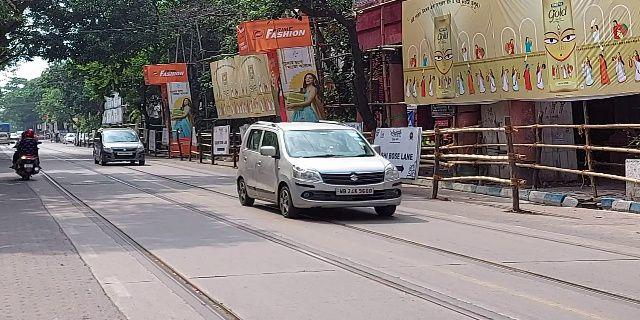Car: (234, 118, 406, 228), (89, 124, 148, 171)
Motorbike: (10, 128, 43, 185)
